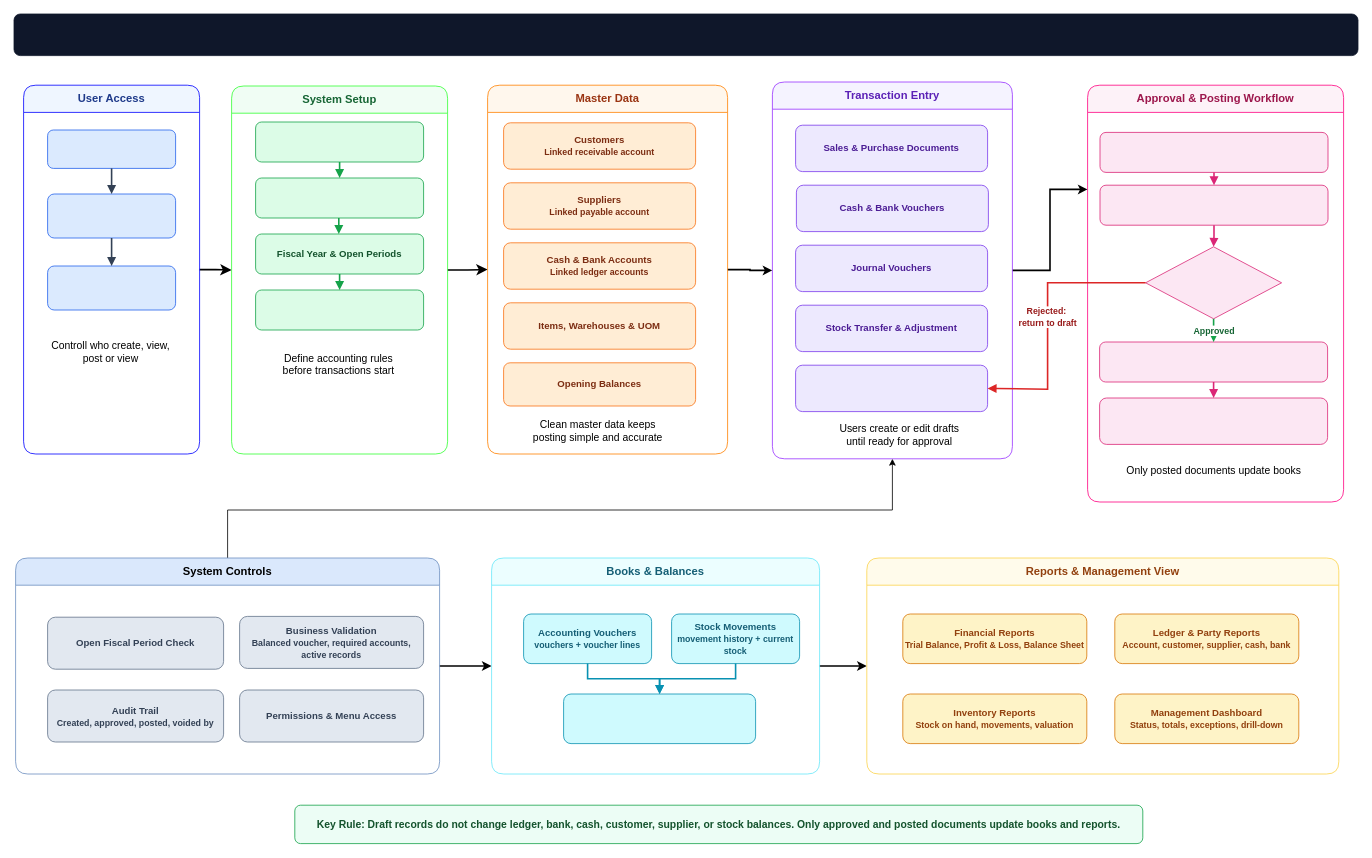
The diagram is 1372 pixels wide and 858 high, and some of its shapes have lost their labels. The shapes that lost their labels are listed below. From the top down, each one's centre as x and y in pixels, then its label:
At pixel 685 34: "ERP Finance System - High Level Flow - MVP".
At pixel 111 148: "Login".
At pixel 339 141: "Company & Regional Settings".
At pixel 1213 152: "Save For Approval".
At pixel 111 215: "Role & Permissions".
At pixel 339 197: "Chart of Accounts".
At pixel 1213 204: "Approval Queue".
At pixel 111 287: "Company Workspace".
At pixel 1213 282: "Approve Or Reject".
At pixel 339 309: "Posting Account Mapping".
At pixel 1213 361: "Post Approved Document".
At pixel 891 388: "Draft Documents No ledger or stock impact".
At pixel 1213 420: "Posted Document Locked Correction by void, reversal, return, or adjustment".
At pixel 659 718: "Current Balances Cash, bank, customer, supplier, inventory".
